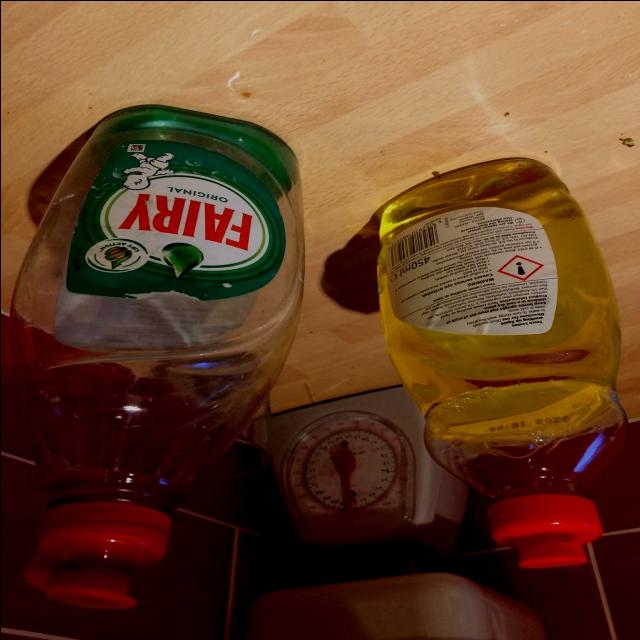Glass cup: (140, 342, 271, 477)
Other plastic container: (8, 104, 304, 608), (376, 157, 626, 568)
